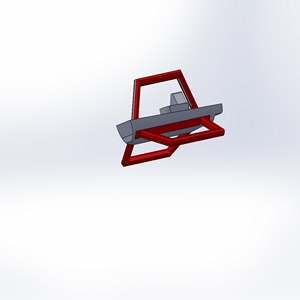submarine: (110, 67, 241, 174)
